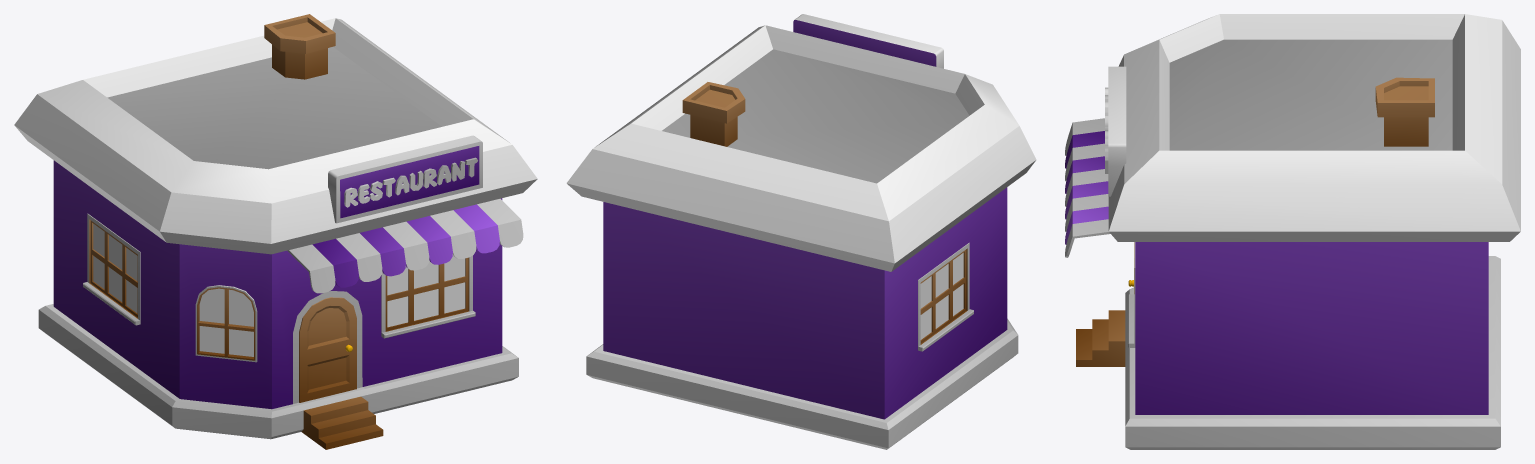
Rendered from Restaurant_1.fbx.
3 views of the same model, side by side, from view 1: azimuth 30°, elevation 25°; view 2: azimuth 150°, elevation 25°; view 3: azimuth 270°, elevation 25° (orthographic). The views are drawn at different scales.
Visible parts, largest first — view 1: Restaurant_1, Restaurant_1 Door; view 2: Restaurant_1; view 3: Restaurant_1.
Boxes of the visible parts, box(x1,y1,x2,y2) form: Restaurant_1: box(14, 14, 537, 449); Restaurant_1 Door: box(299, 297, 356, 402); Restaurant_1: box(566, 14, 1036, 449); Restaurant_1: box(1065, 14, 1520, 449).
Bounding box in the file's own units: 8.35 × 6.66 × 8.82.
